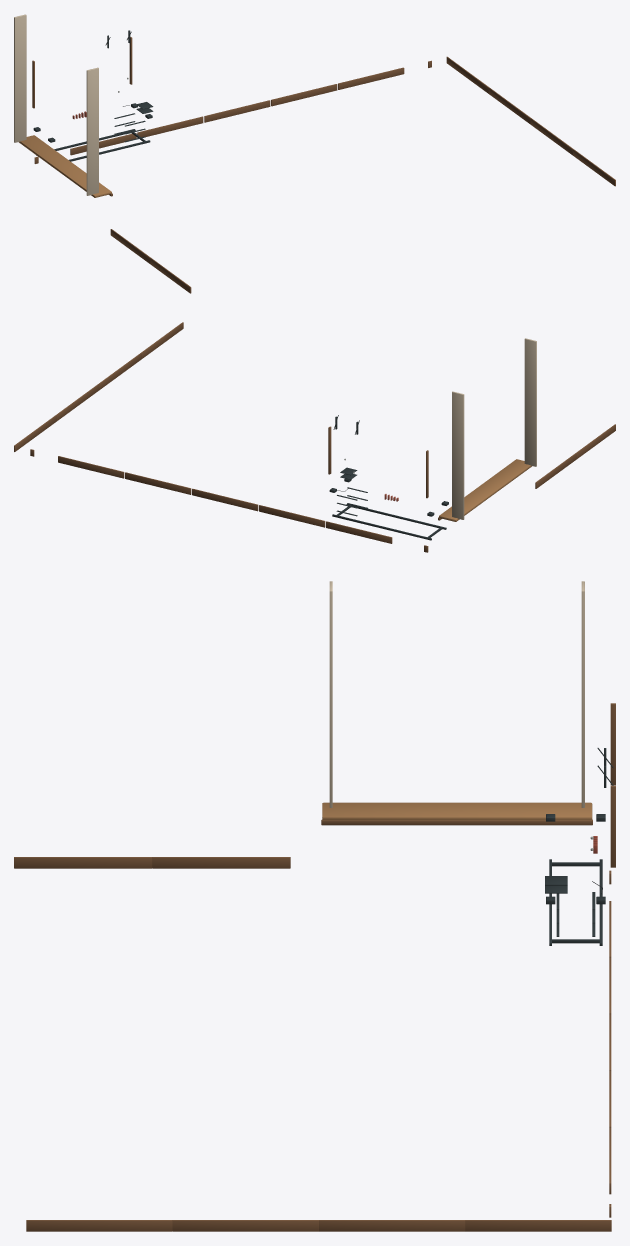
The model's file is detail-mobile.glb.
3 renders of one model, top to bottom at view 1: azimuth 30°, elevation 25°; view 2: azimuth 150°, elevation 25°; view 3: azimuth 270°, elevation 25°, orthographic. The views are drawn at different scales.
Parts seen in each view (by area): view 1: sill front lip, window return, sill oak top, bench welded corner; view 2: sill front lip, window return, sill oak top, bench welded corner; view 3: sill front lip, sill oak top, bench welded corner, window return.
Boxes of the visible parts, left/top/right/bottom form: sill front lip: left=32, top=37, right=615, bottom=293; window return: left=14, top=14, right=98, bottom=195; sill oak top: left=18, top=135, right=111, bottom=197; bench welded corner: left=33, top=30, right=153, bottom=161; sill front lip: left=14, top=322, right=615, bottom=552; window return: left=452, top=338, right=536, bottom=519; sill oak top: left=439, top=459, right=532, bottom=521; bench welded corner: left=329, top=415, right=448, bottom=540; sill front lip: left=14, top=703, right=615, bottom=1231; sill oak top: left=322, top=802, right=592, bottom=820; bench welded corner: left=545, top=748, right=613, bottom=945; window return: left=329, top=581, right=584, bottom=807.
Bounding box in the file's own units: 10.88 × 3.75 × 7.4.
